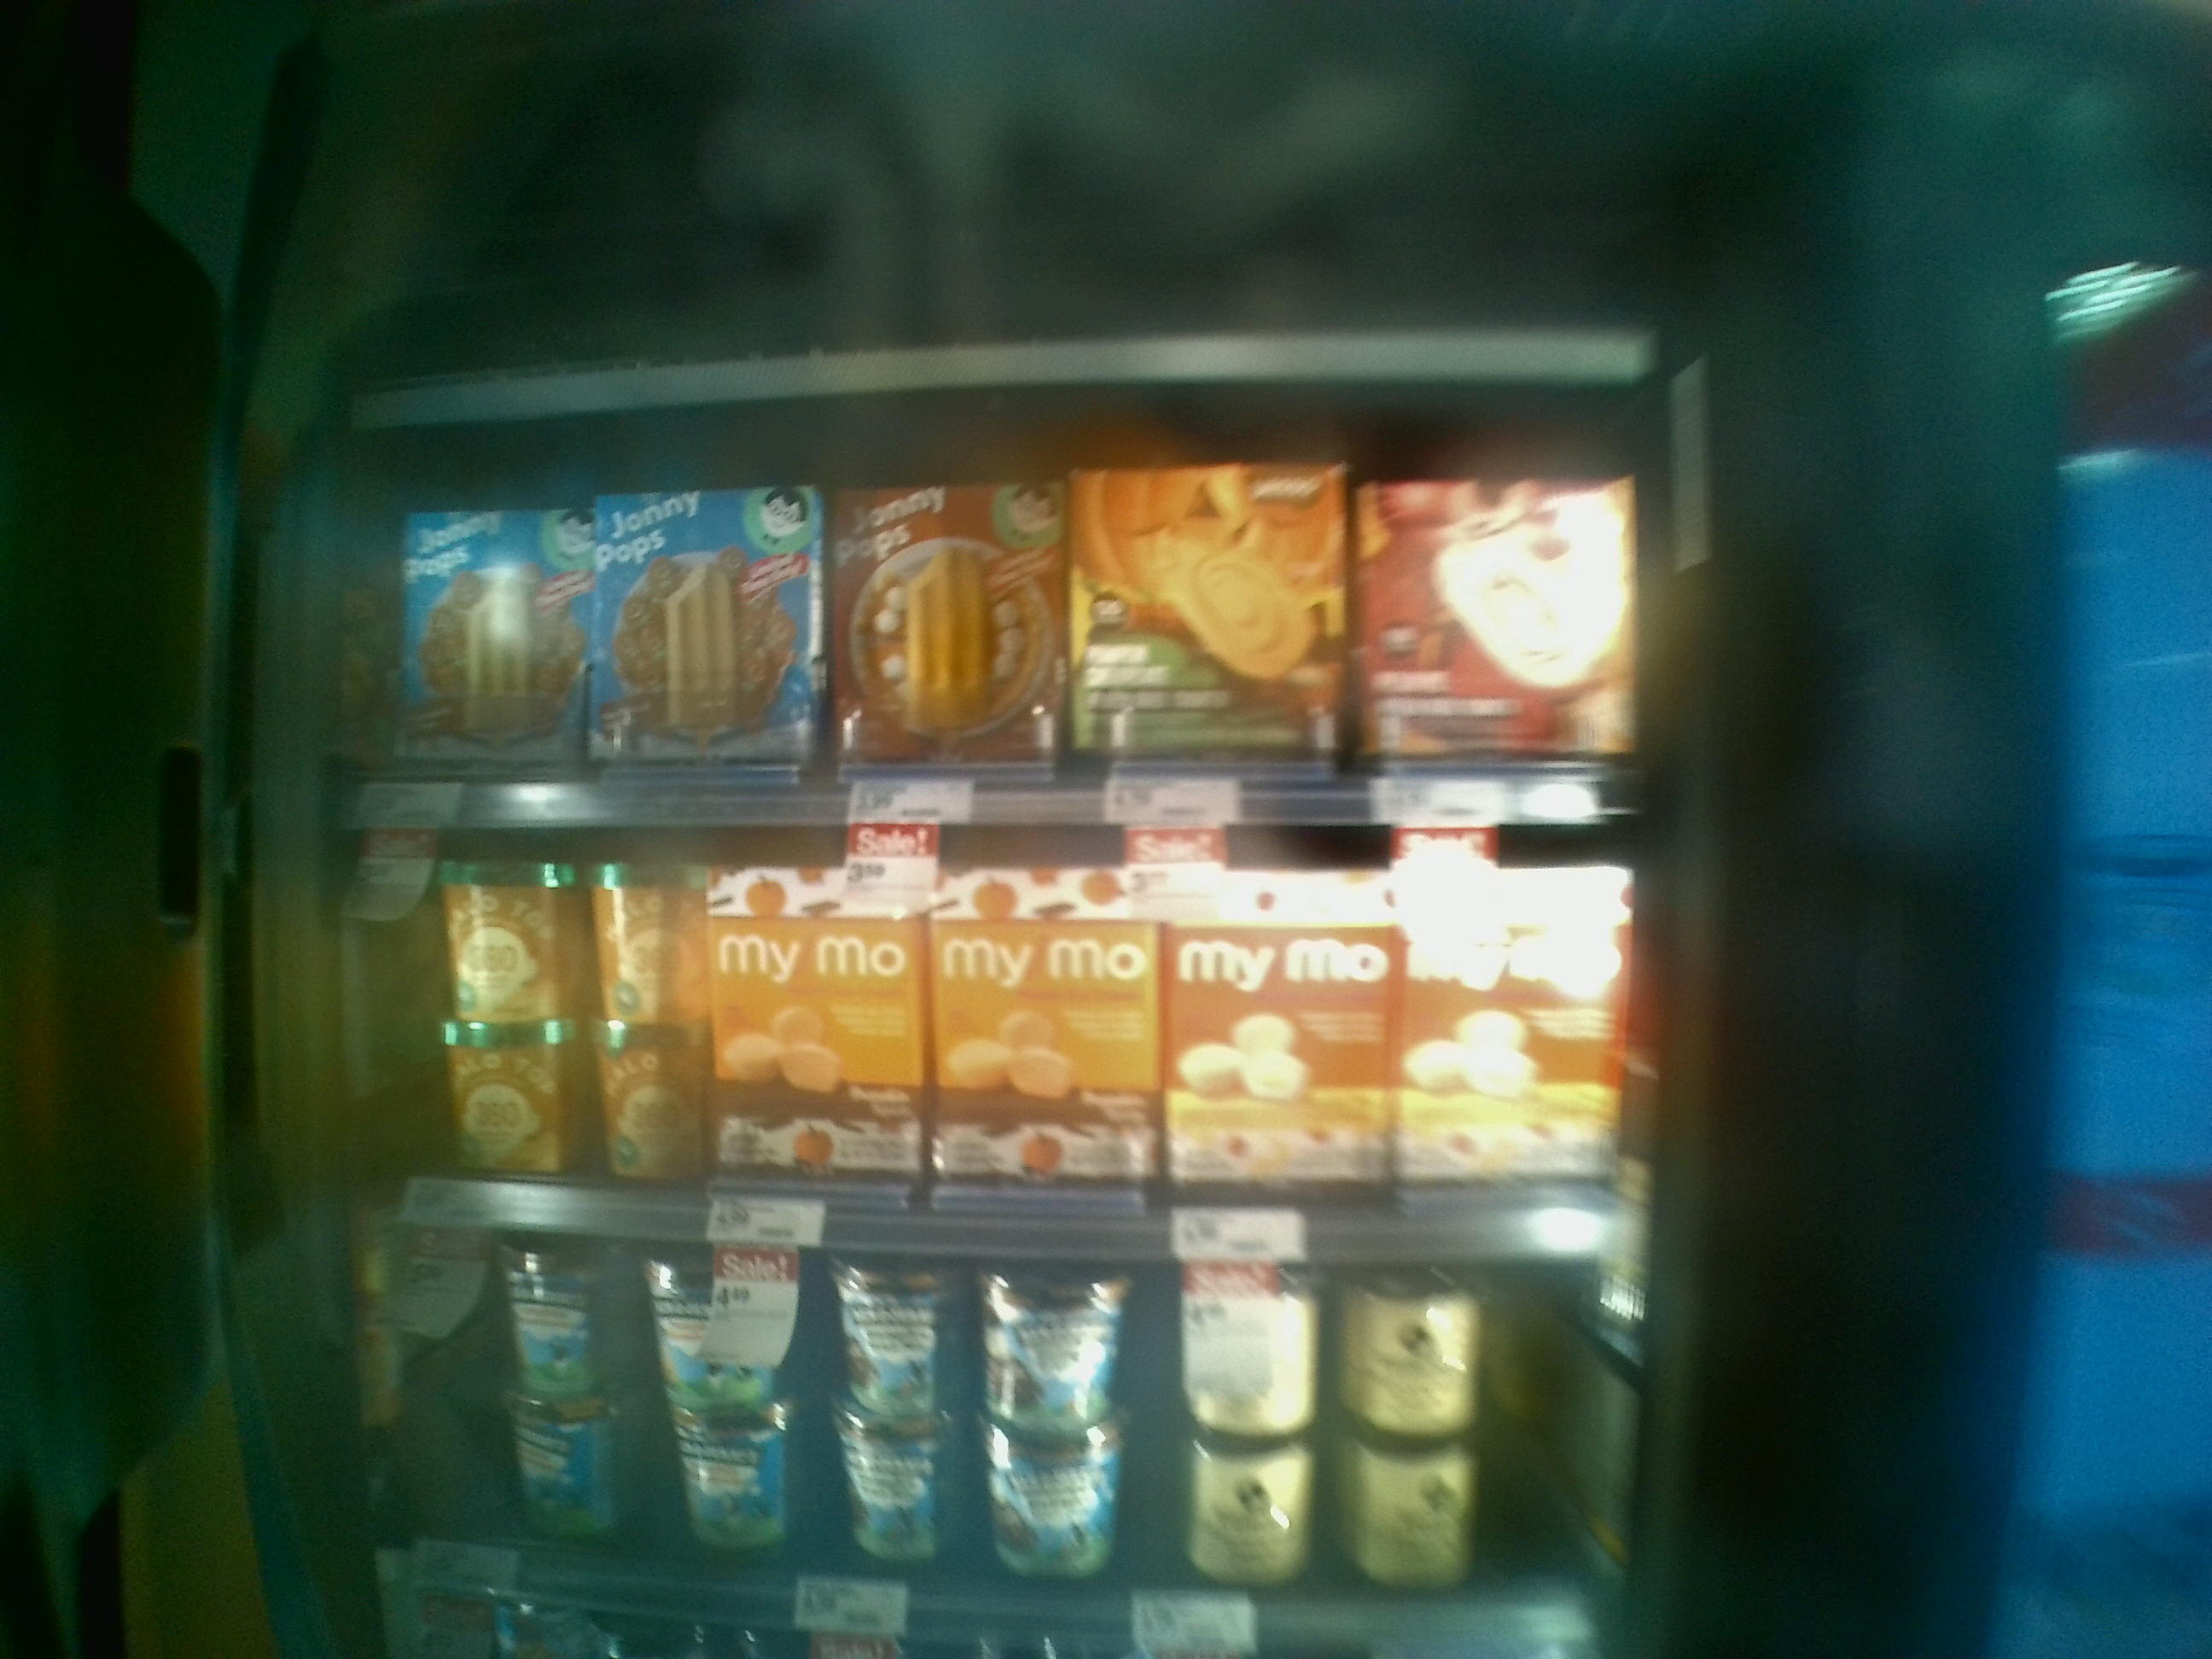shelf: (308, 821, 1639, 1256), (324, 406, 1656, 835)
